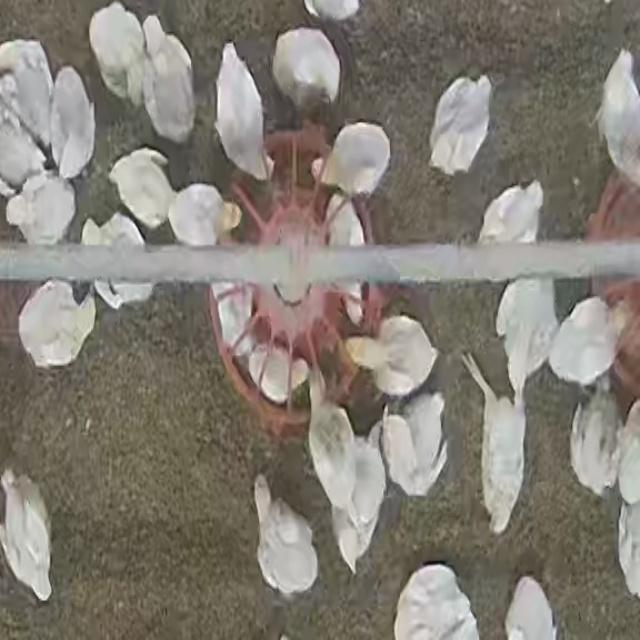chicken: (462, 350, 528, 536), (215, 40, 272, 184), (333, 428, 389, 572), (496, 278, 560, 402), (137, 11, 197, 142), (346, 312, 437, 397), (309, 368, 359, 521), (381, 387, 448, 500), (256, 479, 320, 593), (1, 40, 64, 155), (0, 468, 53, 600), (546, 296, 619, 390), (393, 563, 481, 639), (75, 212, 152, 298), (428, 75, 494, 175), (22, 279, 95, 367), (595, 47, 640, 188), (272, 24, 342, 114), (315, 120, 394, 197), (167, 179, 243, 253), (324, 191, 366, 324), (49, 66, 97, 182), (569, 387, 620, 496), (89, 2, 147, 97), (4, 173, 78, 245), (111, 145, 174, 226), (476, 182, 544, 248), (249, 338, 312, 399), (502, 576, 559, 640), (214, 281, 254, 355)
